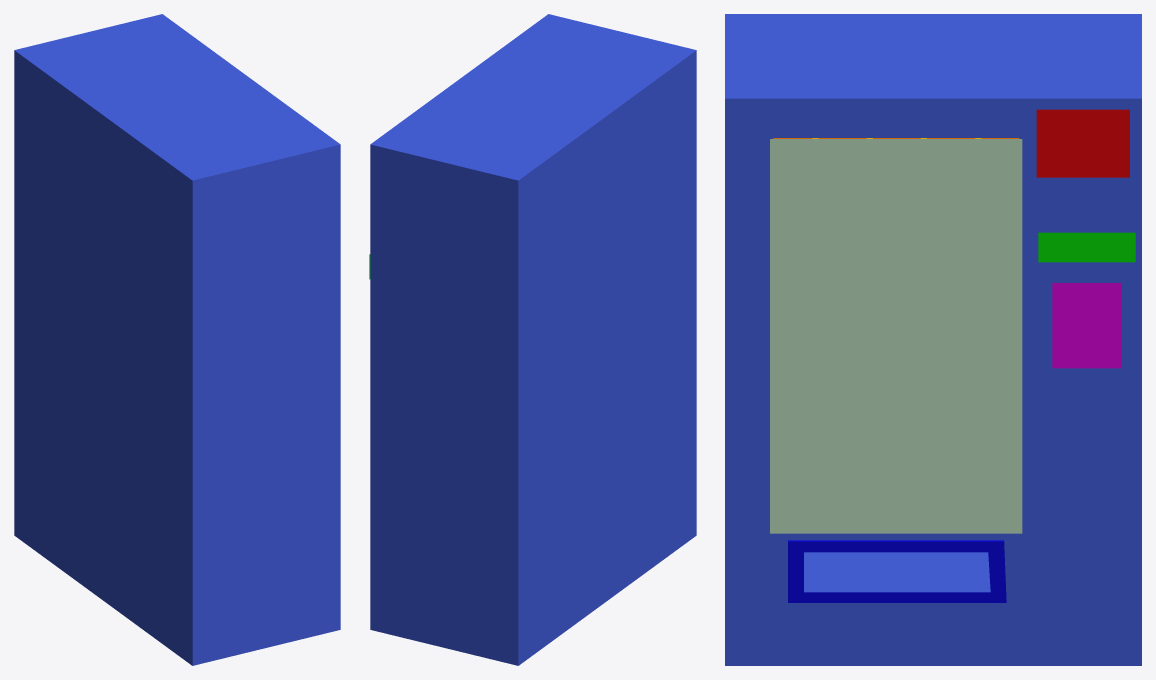
File: VendingMachine.fbx
3 renders of one model, left to right at view 1: azimuth 30°, elevation 25°; view 2: azimuth 150°, elevation 25°; view 3: azimuth 270°, elevation 25°, orthographic. The views are drawn at different scales.
Visible parts, largest first — view 1: Cube; view 2: Cube; view 3: Cube, Detailing, Keypad, Detailing.001.
Boxes of the visible parts, bbox=[...] form: Cube: bbox=[14, 14, 340, 665]; Cube: bbox=[370, 14, 696, 665]; Cube: bbox=[725, 14, 1141, 665]; Detailing: bbox=[1036, 109, 1129, 177]; Keypad: bbox=[1052, 283, 1121, 368]; Detailing.001: bbox=[1038, 232, 1135, 262].
Size of the model in its own units: 443 by 1331 by 886.
